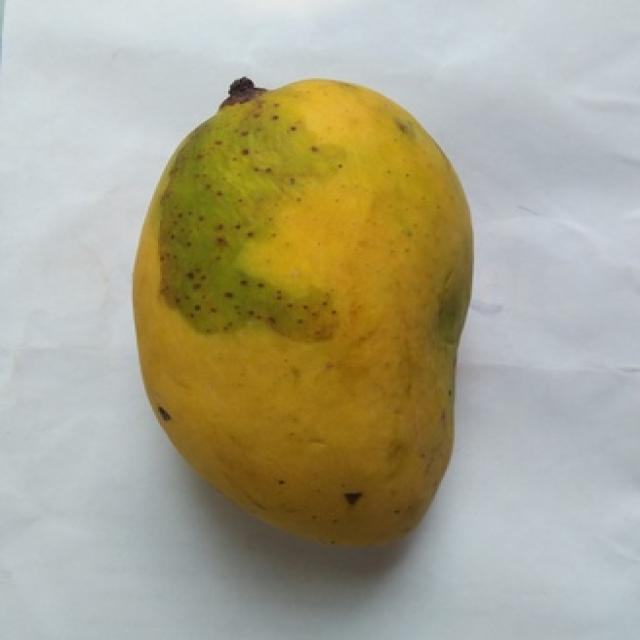Mango: (133, 80, 470, 543)
